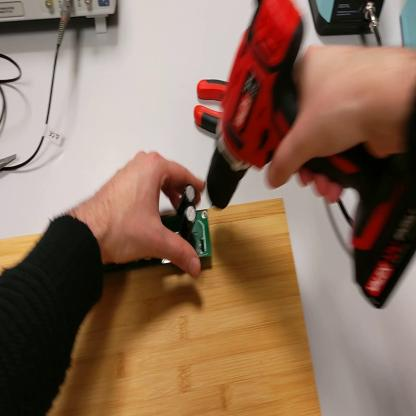electric screwdriver: (202, 2, 416, 311)
hand: (265, 42, 412, 199), (95, 147, 207, 281)
high voltage board: (108, 185, 211, 271)
oscilloscope: (2, 1, 118, 33)
pliers: (193, 80, 228, 137)
welder station: (310, 4, 386, 42), (400, 4, 416, 51)
working area: (1, 197, 319, 416)
